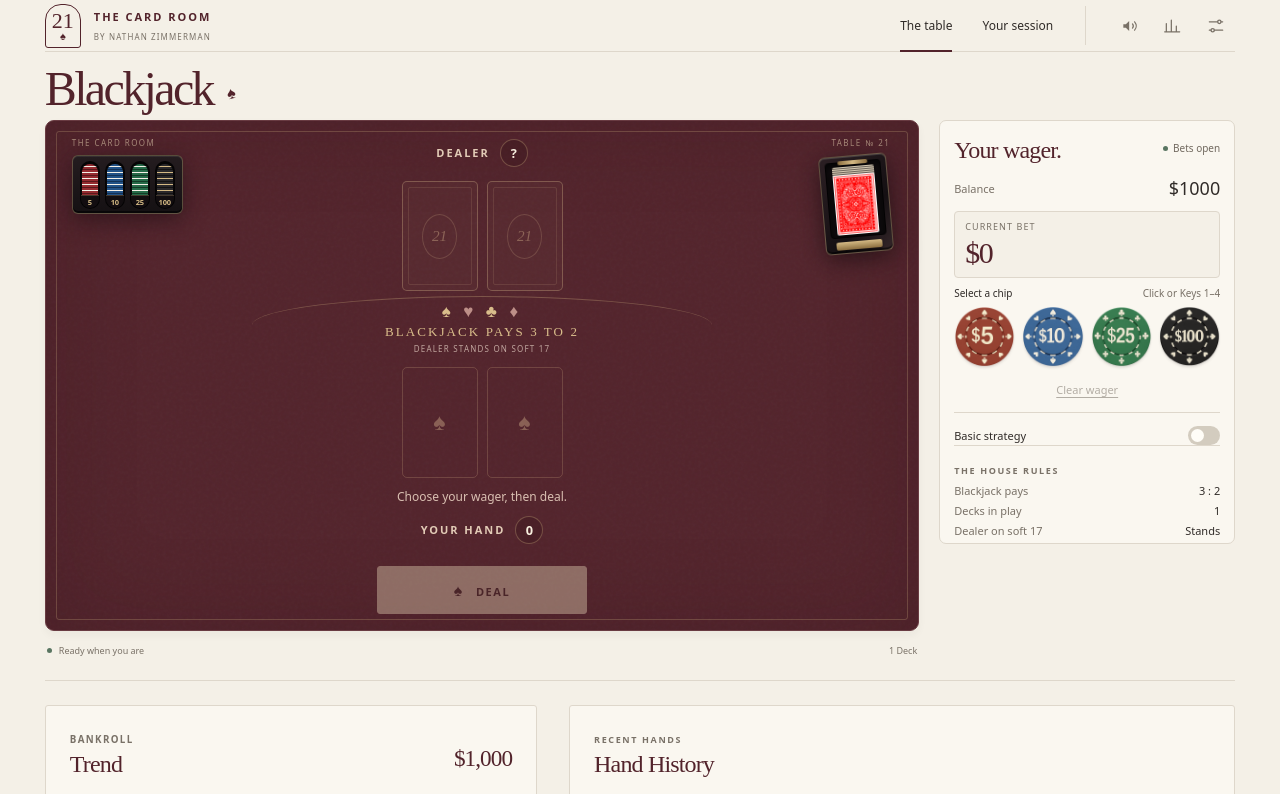
Test: BlackjackGame › handles hit action with player loss
The width and height of the screenshot is (1280, 794).
Click the button with alt text "$10 chip".
click(1053, 336)  # box [1022, 306, 1084, 367]
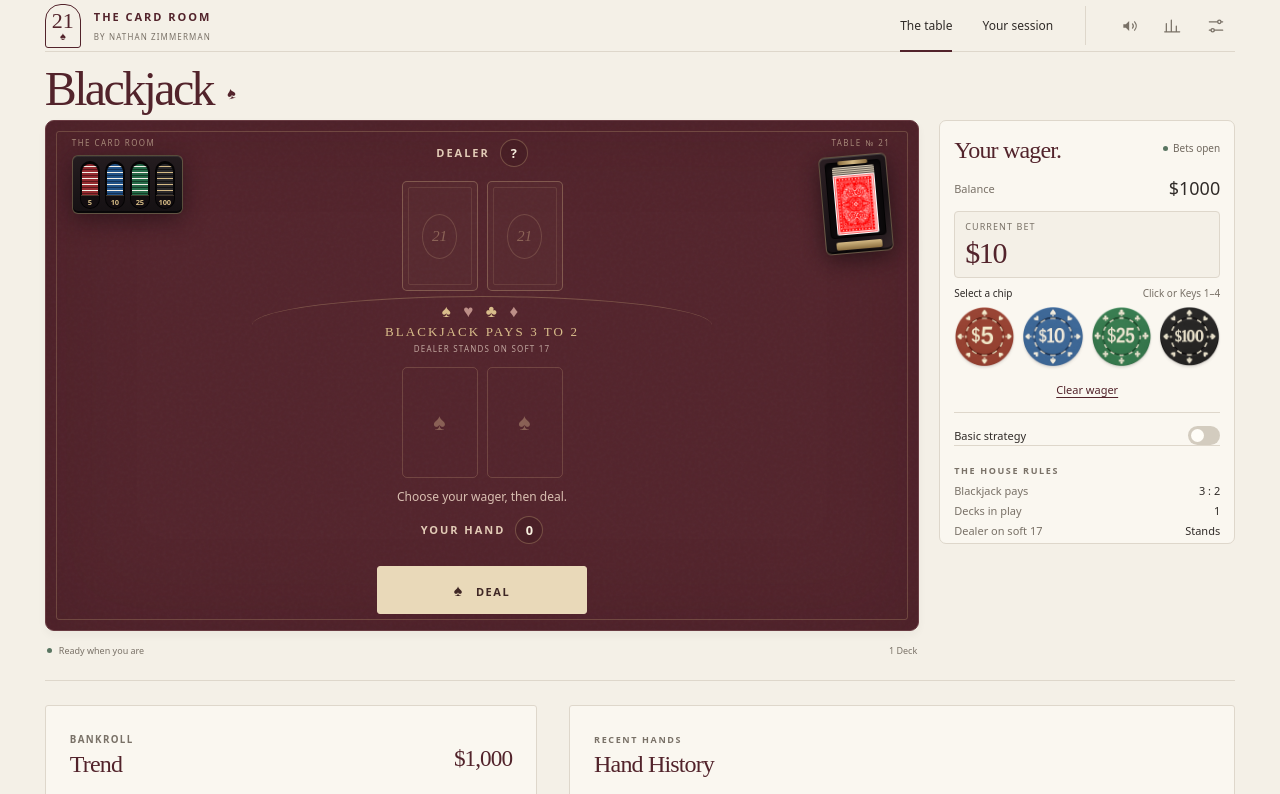
Click the button "DEAL".
click(482, 590)  # box [377, 566, 587, 614]
Wait 5000 ms
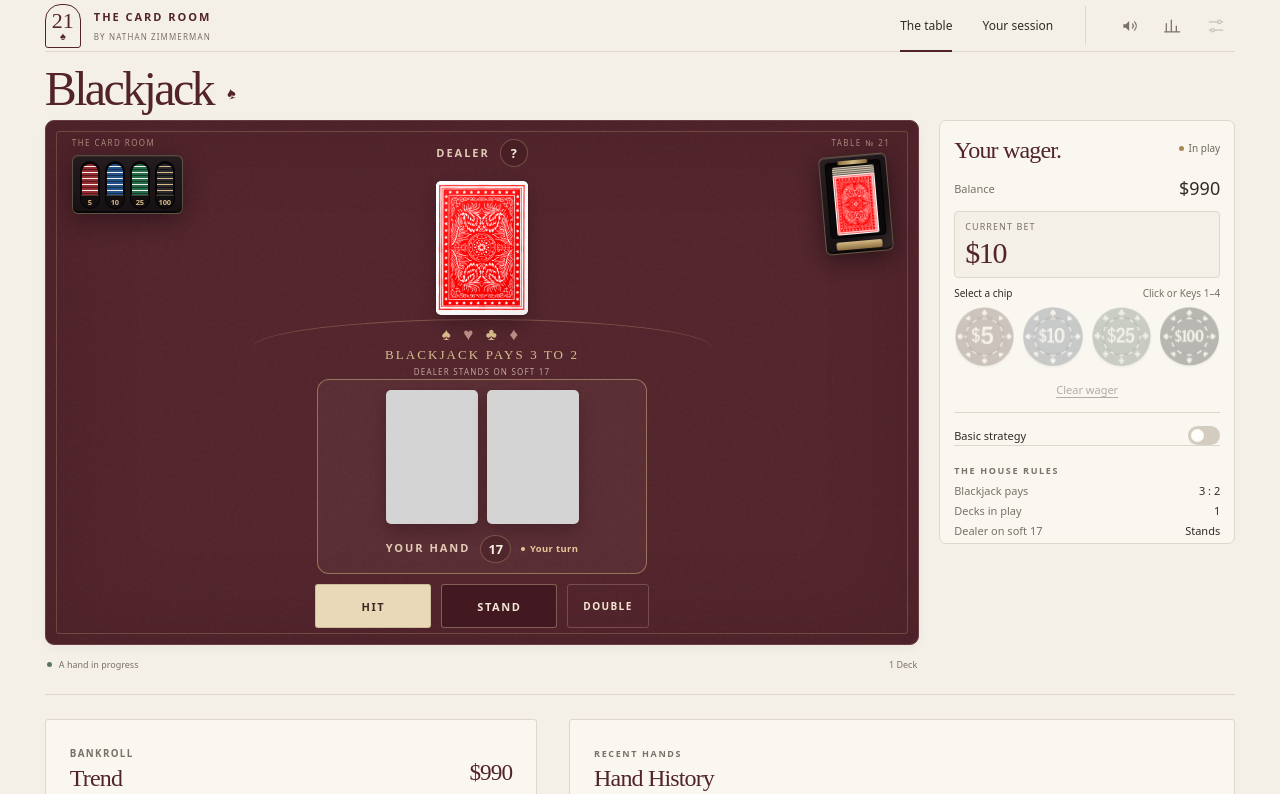
expect the button "HIT" is enabled: met
Click the button "HIT".
click(373, 606)  # box [315, 584, 431, 628]
Wait 6000 ms
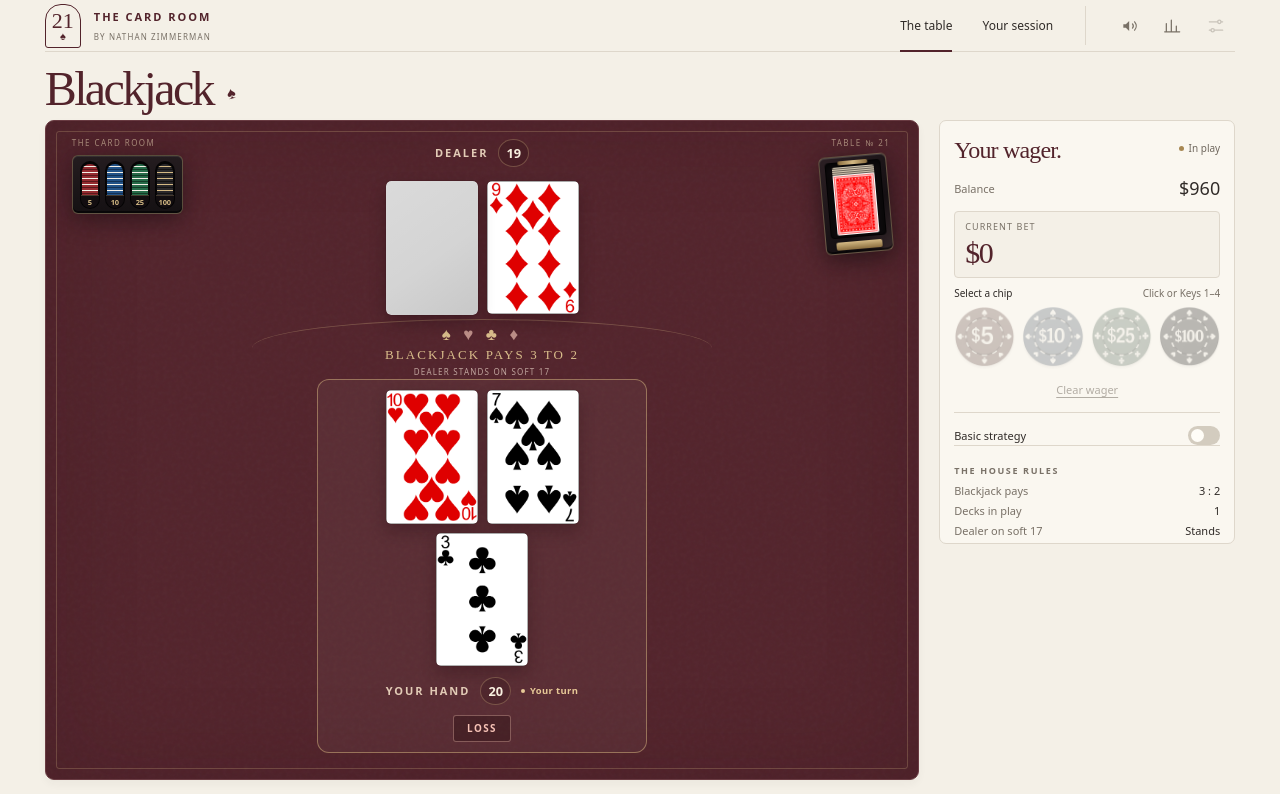
expect the text "LOSS" is shown: met, box [453, 715, 511, 742]
